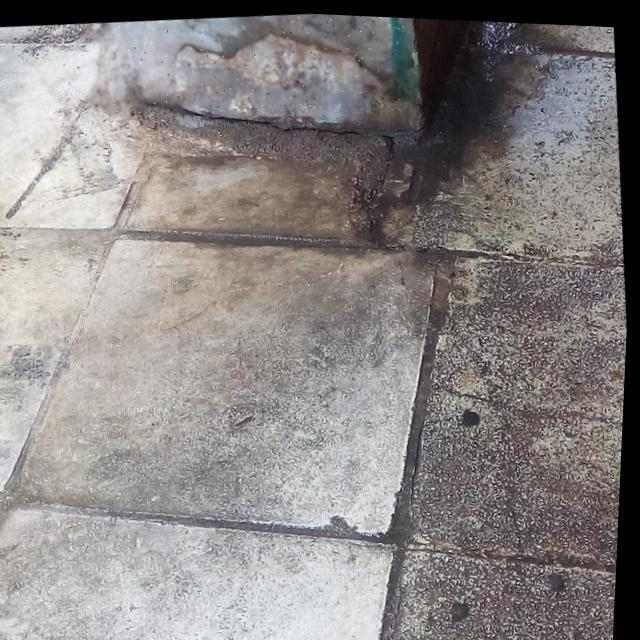-: (80, 2, 417, 122)
